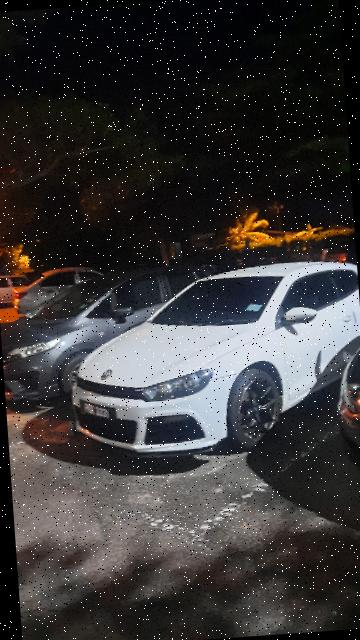License_Plate: (79, 398, 119, 429)
car: (61, 256, 360, 461), (1, 258, 246, 407)
